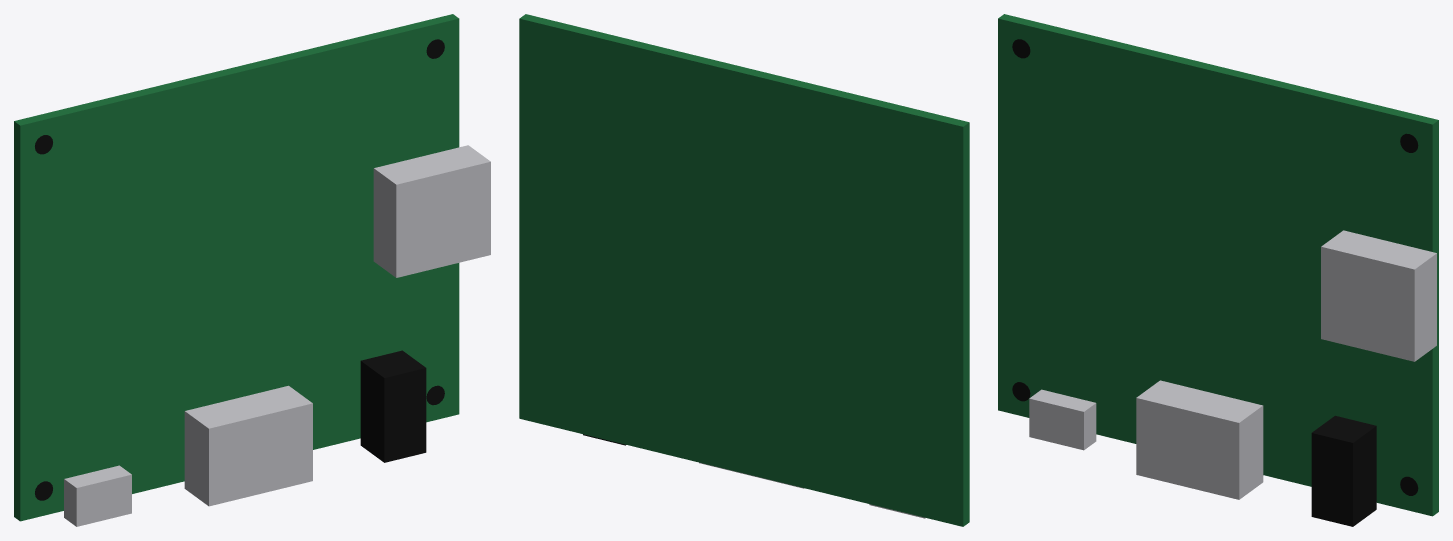
The model's file is mod-pi3a.glb.
3 renders of one model, left to right at view 1: azimuth 30°, elevation 25°; view 2: azimuth 150°, elevation 25°; view 3: azimuth 330°, elevation 25°, orthographic. The views are drawn at different scales.
Parts seen in each view (by area): view 1: PCB-PI, MET-PORT, PORT; view 2: PCB-PI; view 3: PCB-PI, MET-PORT, PORT.
Part boxes in pixels (x1,y1,x2,y2): PCB-PI: (14,14,459,521); MET-PORT: (64,145,490,526); PORT: (360,350,426,462); PCB-PI: (519,14,969,526); PCB-PI: (998,14,1438,516); MET-PORT: (1029,230,1436,499); PORT: (1311,415,1376,526).
Size of the model in its own units: 66 by 57 by 8.
